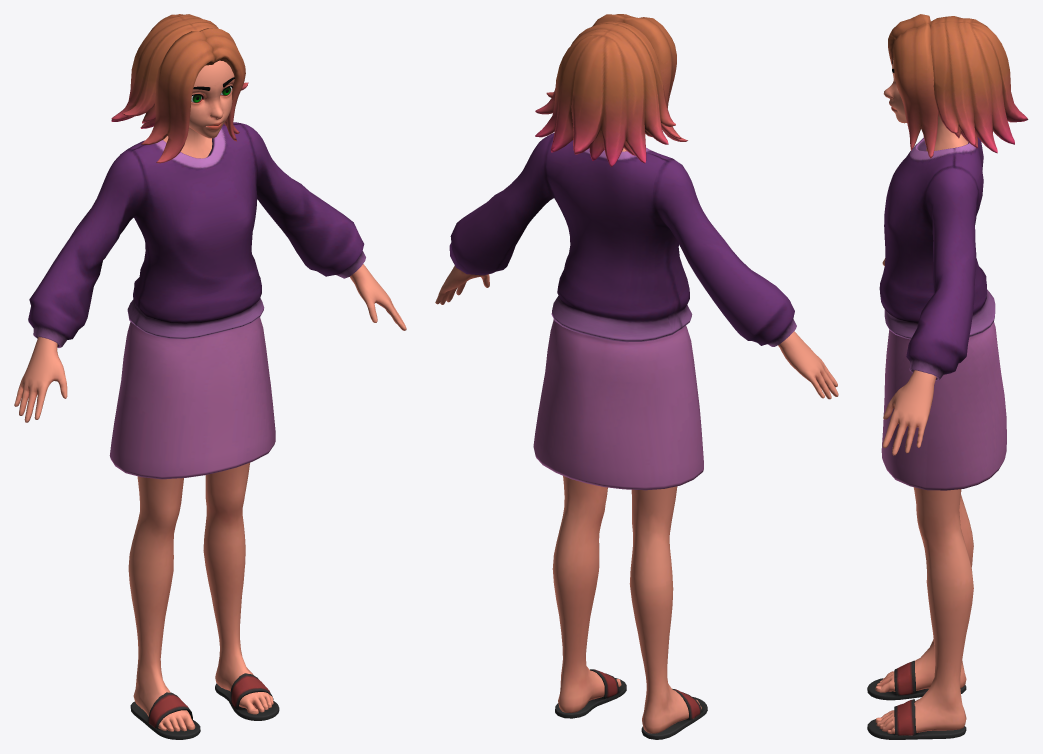
The model's file is Mary_Mesh.obj.
3 renders of one model, left to right at view 1: azimuth 30°, elevation 25°; view 2: azimuth 150°, elevation 25°; view 3: azimuth 270°, elevation 25°, orthographic. The views are drawn at different scales.
Visible parts, largest first — view 1: Mary_Mesh_0; view 2: Mary_Mesh_0; view 3: Mary_Mesh_0.
Part boxes in pixels (x1,y1,x2,y2): Mary_Mesh_0: (14,14,406,739); Mary_Mesh_0: (435,14,838,739); Mary_Mesh_0: (867,14,1028,739).
Size of the model in its own units: 1.06 by 1.8 by 0.3798.
Materials: 1 (1 with a texture image).
